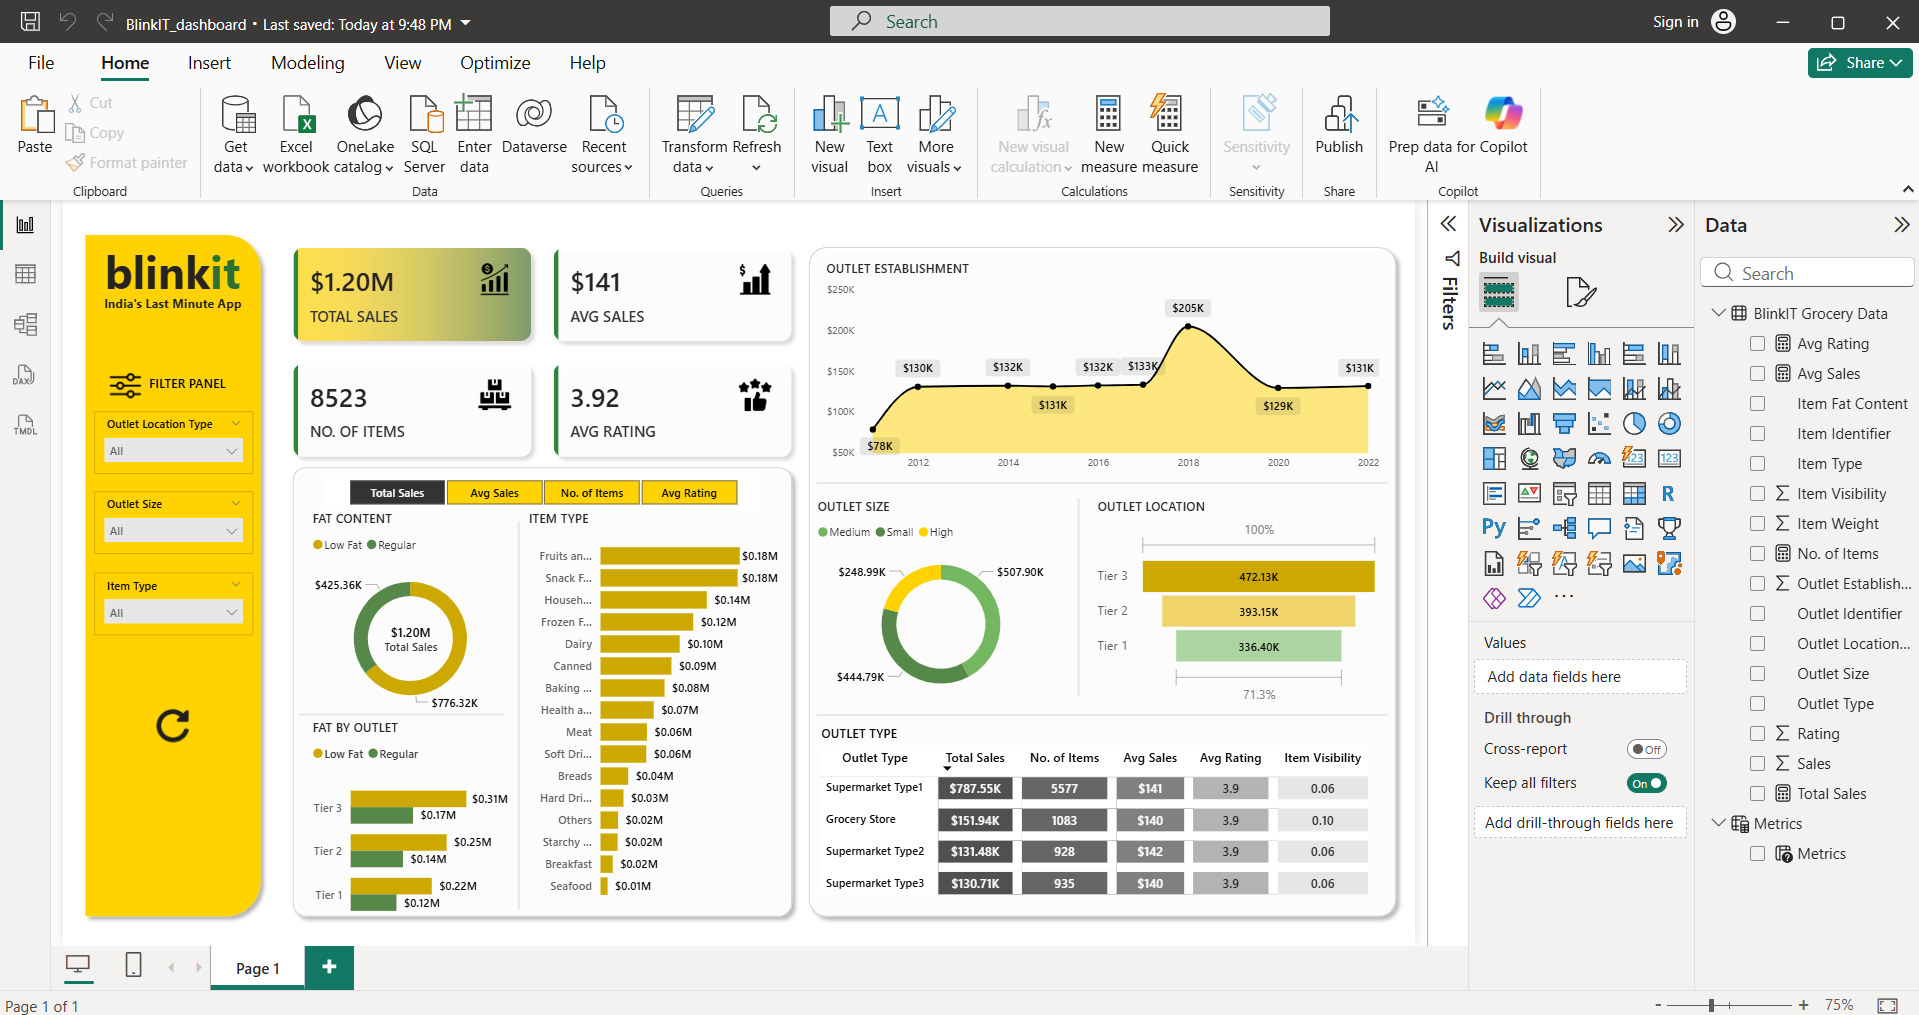

Layout of this report page (visuals, bound fields, positions):
{"tool":"powerbi","page":{"name":"Page 1","canvas":[1450,800],"ordinal":0},"visuals":[{"type":"shape","box":[14.2,27.8,206.4,749.3],"z":0},{"type":"textbox","box":[33,38.5,167.6,80.4],"z":1000},{"type":"textbox","box":[37,96.9,160.8,28.5],"z":2000},{"type":"cardVisual","fields":{"Data":["BlinkIT Grocery Data.Total Sales","BlinkIT Grocery Data.Avg Sales","BlinkIT Grocery Data.No. of Items","BlinkIT Grocery Data.Avg Rating"]},"box":[223.9,28.2,580.4,270.8],"z":3000},{"type":"shape","box":[237.3,277.5,553.6,500],"z":4000},{"type":"donutChart","title":"FAT CONTENT","fields":{"Y":["BlinkIT Grocery Data.Total Sales"],"Category":["BlinkIT Grocery Data.Item Fat Content"]},"box":[262.7,332.4,219.8,230.6],"z":5000},{"type":"slicer","fields":{"Values":["Metrics.Metrics"]},"box":[281.3,293.3,465.3,39.3],"z":6000},{"type":"cardVisual","fields":{"Data":["BlinkIT Grocery Data.Total Sales"]},"box":[309.7,433,127.3,75.1],"z":7000},{"type":"clusteredBarChart","title":"FAT BY OUTLET","fields":{"Y":["BlinkIT Grocery Data.Total Sales"],"Category":["BlinkIT Grocery Data.Outlet Location Type"],"Series":["BlinkIT Grocery Data.Item Fat Content"]},"box":[262.7,556.3,219.8,231.9],"z":8000},{"type":"shape","box":[252.4,547.1,220,10],"z":9000},{"type":"shape","box":[482.5,344.2,12.5,415.8],"z":10000},{"type":"barChart","title":"ITEM TYPE","fields":{"Y":["BlinkIT Grocery Data.Total Sales"],"Category":["BlinkIT Grocery Data.Item Type"]},"box":[494.6,332.4,277.5,427.6],"z":11000},{"type":"shape","box":[790.9,41.3,647.8,736.1],"z":12000},{"type":"lineChart","title":"OUTLET ESTABLISHMENT","fields":{"Y":["BlinkIT Grocery Data.Total Sales"],"Category":["BlinkIT Grocery Data.Outlet Establishment Year"]},"box":[813.7,64.3,603.2,234.6],"z":13000},{"type":"shape","box":[808.3,298.9,612.6,9.4],"z":14000},{"type":"donutChart","title":"OUTLET SIZE","fields":{"Y":["BlinkIT Grocery Data.Total Sales"],"Category":["BlinkIT Grocery Data.Outlet Size"]},"box":[804.3,319,274.8,226.5],"z":15000},{"type":"shape","box":[1083.1,320.9,12.1,211.8],"z":16000},{"type":"funnel","title":"OUTLET LOCATION","fields":{"Y":["Sum(BlinkIT Grocery Data.Sales)"],"Category":["BlinkIT Grocery Data.Outlet Location Type"]},"box":[1104.6,319.6,312.3,226.5],"z":17000},{"type":"shape","box":[808.3,548.3,612.6,8],"z":18000},{"type":"pivotTable","title":"OUTLET TYPE","fields":{"Rows":["BlinkIT Grocery Data.Outlet Type"],"Values":["BlinkIT Grocery Data.Total Sales","BlinkIT Grocery Data.No. of Items","BlinkIT Grocery Data.Avg Sales","BlinkIT Grocery Data.Avg Rating","Avg(BlinkIT Grocery Data.Item Visibility)"]},"box":[808.3,563,612.6,203.8],"z":19000},{"type":"slicer","fields":{"Values":["BlinkIT Grocery Data.Outlet Location Type"]},"box":[33.5,226.5,170.2,67],"z":20000},{"type":"slicer","fields":{"Values":["BlinkIT Grocery Data.Outlet Size"]},"box":[33.5,312.3,170.2,67],"z":21000},{"type":"slicer","fields":{"Values":["BlinkIT Grocery Data.Item Type"]},"box":[33.5,399.5,170.2,67],"z":22000},{"type":"textbox","box":[82.2,182.1,103.6,33.6],"z":22001},{"type":"actionButton","box":[93.8,538.9,48.3,49.6],"z":22002},{"type":"image","box":[47.2,182.1,40.7,33.6],"z":22003}]}

Visuals, with their boxes on the page's 1450x800 design canvas (x1, y1, x2, y2). These are canvas units, not pixel positions in the 1919x1015 screenshot, which may show the page scaled, cropped or inside an application window:
shape: crop(14, 28, 221, 777)
textbox: crop(33, 38, 201, 119)
textbox: crop(37, 97, 198, 125)
cardVisual - BlinkIT Grocery Data.Total Sales x BlinkIT Grocery Data.Avg Sales: crop(224, 28, 804, 299)
shape: crop(237, 278, 791, 778)
"FAT CONTENT" donutChart: crop(263, 332, 482, 563)
slicer - Metrics.Metrics: crop(281, 293, 747, 333)
cardVisual - BlinkIT Grocery Data.Total Sales: crop(310, 433, 437, 508)
"FAT BY OUTLET" clusteredBarChart: crop(263, 556, 482, 788)
shape: crop(252, 547, 472, 557)
shape: crop(482, 344, 495, 760)
"ITEM TYPE" barChart: crop(495, 332, 772, 760)
shape: crop(791, 41, 1439, 777)
"OUTLET ESTABLISHMENT" lineChart: crop(814, 64, 1417, 299)
shape: crop(808, 299, 1421, 308)
"OUTLET SIZE" donutChart: crop(804, 319, 1079, 546)
shape: crop(1083, 321, 1095, 533)
"OUTLET LOCATION" funnel: crop(1105, 320, 1417, 546)
shape: crop(808, 548, 1421, 556)
"OUTLET TYPE" pivotTable: crop(808, 563, 1421, 767)
slicer - BlinkIT Grocery Data.Outlet Location Type: crop(34, 226, 204, 294)
slicer - BlinkIT Grocery Data.Outlet Size: crop(34, 312, 204, 379)
slicer - BlinkIT Grocery Data.Item Type: crop(34, 400, 204, 466)
textbox: crop(82, 182, 186, 216)
actionButton: crop(94, 539, 142, 588)
image: crop(47, 182, 88, 216)
